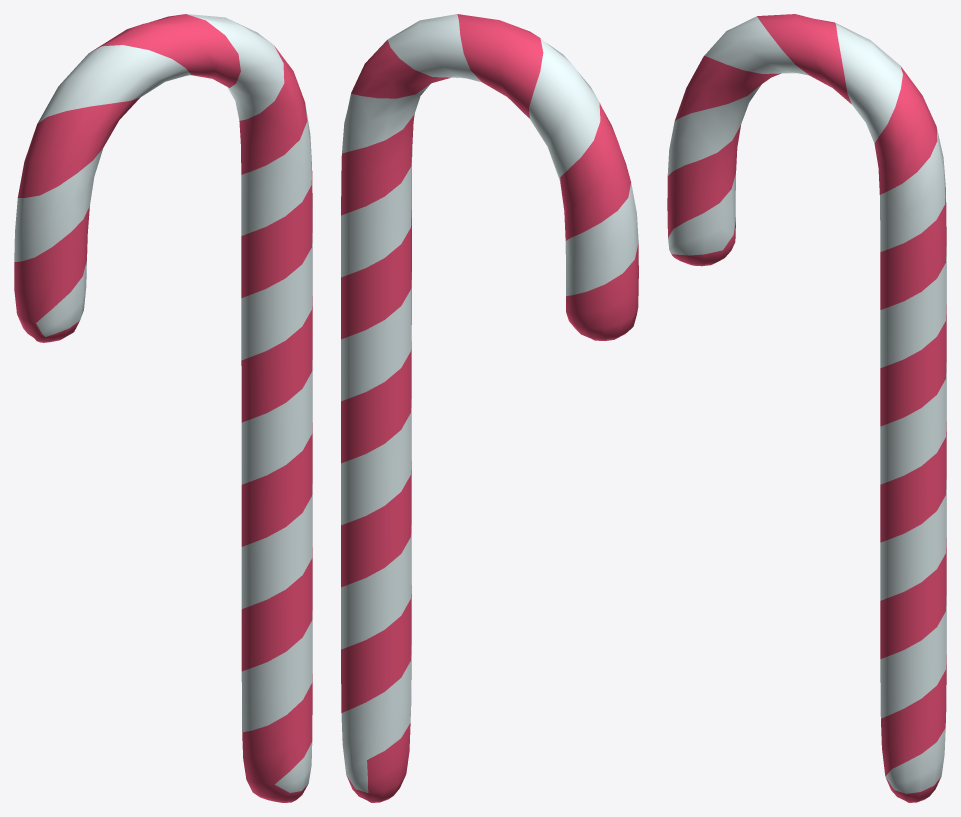
The model's file is Candycane_01.fbx.
3 renders of one model, left to right at view 1: azimuth 30°, elevation 25°; view 2: azimuth 150°, elevation 25°; view 3: azimuth 330°, elevation 25°, orthographic. The views are drawn at different scales.
Parts seen in each view (by area): view 1: Candycane_01_LOD0; view 2: Candycane_01_LOD0; view 3: Candycane_01_LOD0.
Boxes of the visible parts, x1=… form: Candycane_01_LOD0: x1=14, y1=14, x2=312, y2=802; Candycane_01_LOD0: x1=341, y1=14, x2=638, y2=802; Candycane_01_LOD0: x1=667, y1=14, x2=946, y2=802.
Size of what is drawn, in the model's own units: 390 by 1040 by 87.9.
